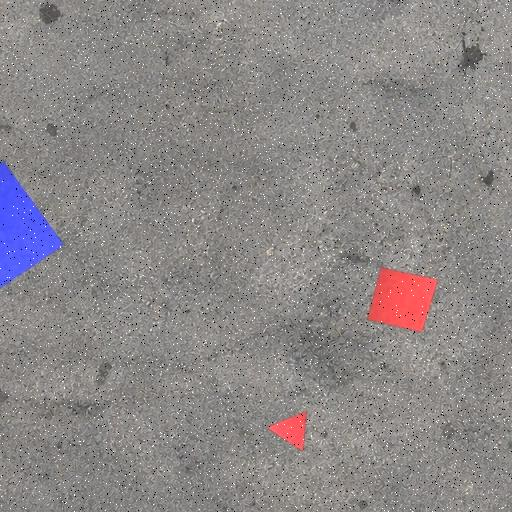BLUE_SQUARE: (0, 160, 64, 314)
RED_SQUARE: (366, 266, 438, 333)
